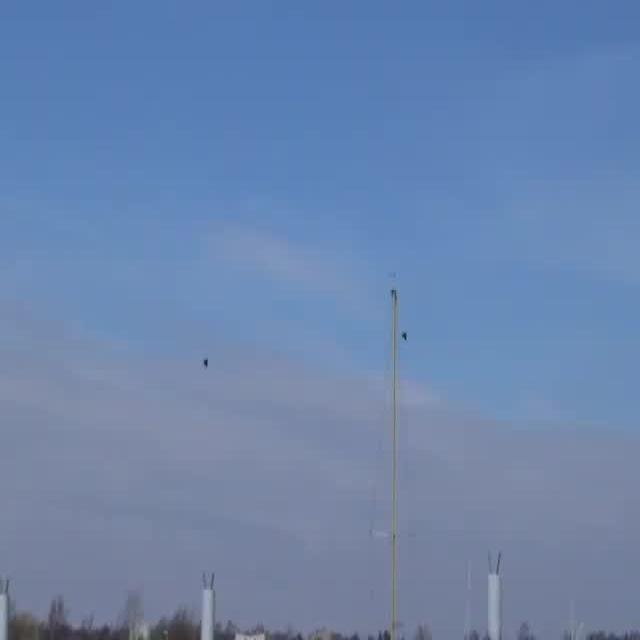bird: (197, 346, 217, 374), (400, 324, 413, 349)
